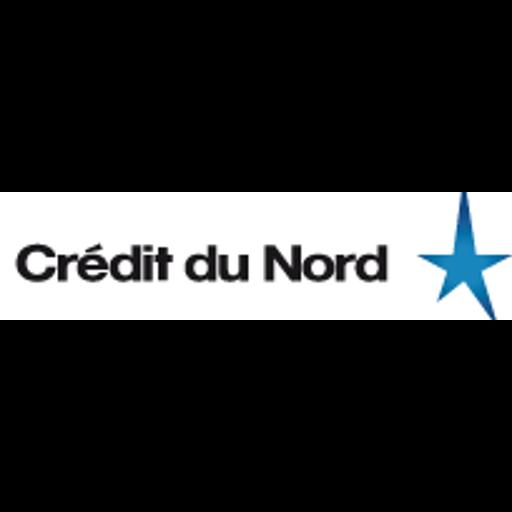Credit du Nord: (0, 192, 512, 320)
